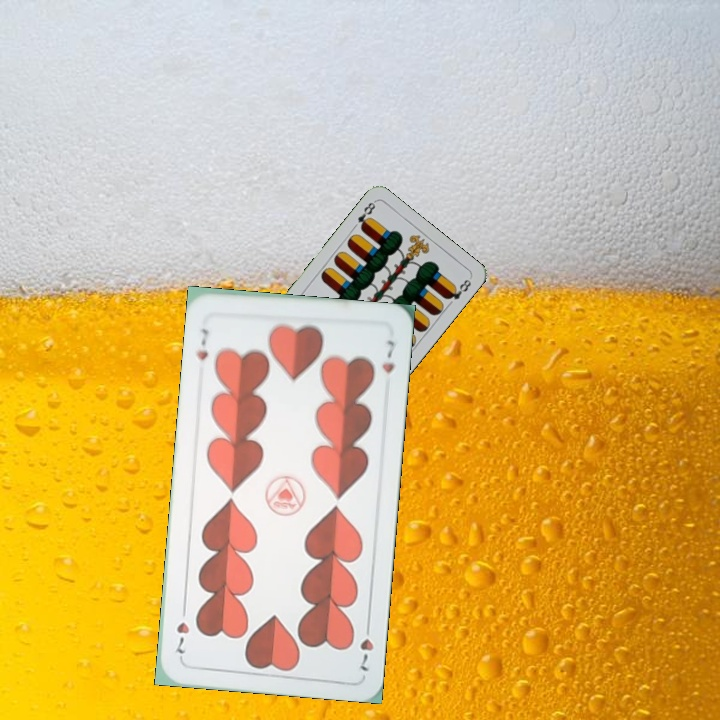E8: (353, 197, 378, 233)
H7: (356, 617, 376, 674), (193, 324, 212, 363)
